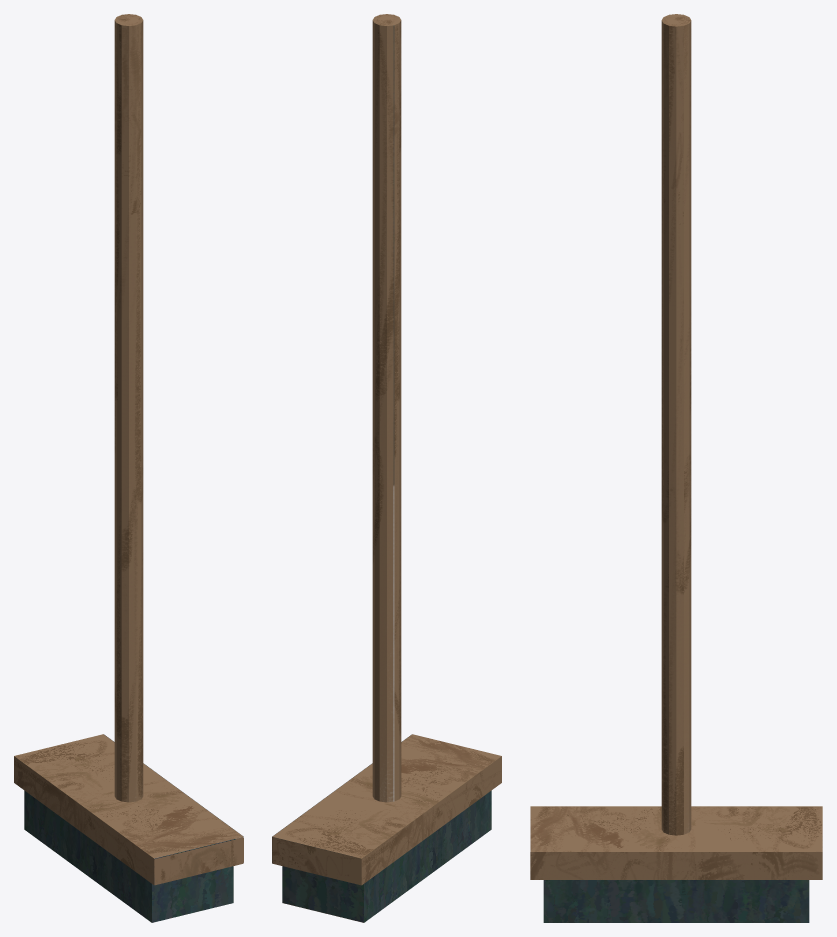
File: broom.glb
The picture shows the model from 3 angles, left to right: view 1: azimuth 30°, elevation 25°; view 2: azimuth 150°, elevation 25°; view 3: azimuth 270°, elevation 25°; orthographic projection. The views are drawn at different scales.
Visible parts, largest first — view 1: Cylinder.002; view 2: Cylinder.002; view 3: Cylinder.002.
Part boxes in pixels (left/top/right/bottom): Cylinder.002: left=14, top=14, right=243, bottom=922; Cylinder.002: left=272, top=14, right=501, bottom=922; Cylinder.002: left=530, top=14, right=822, bottom=922.
Size of the model in its own units: 0.2195 by 1.98 by 0.5943.
1 material, 1 textured.
